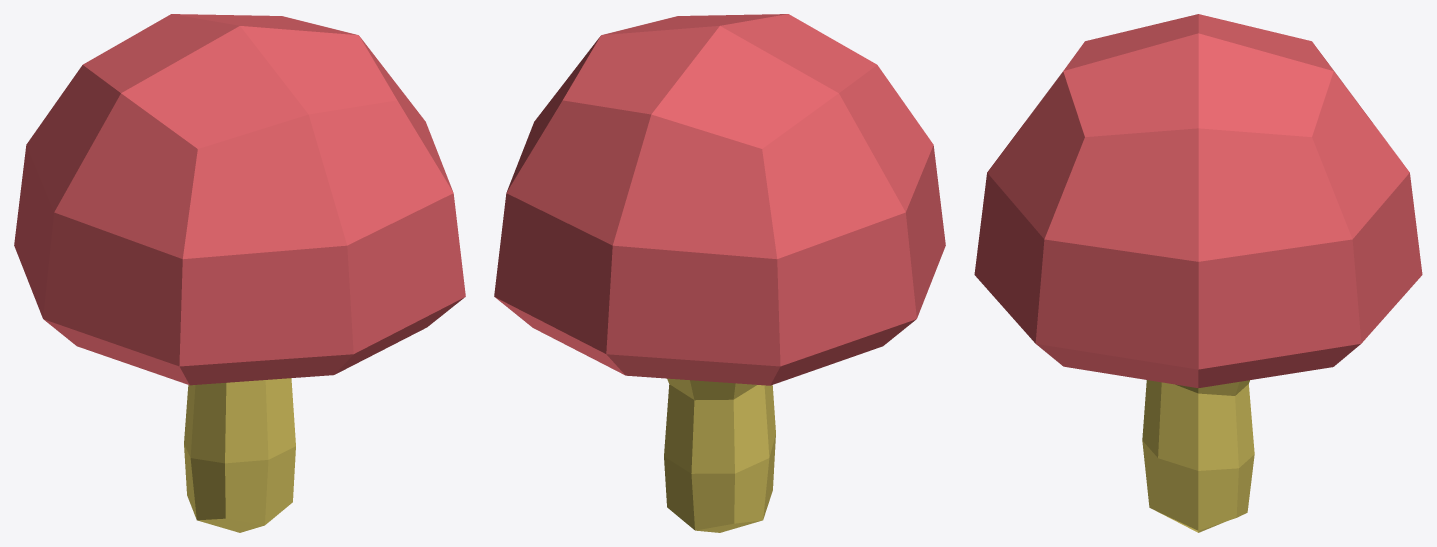
Rendered from Jumper.fbx.
3 renders of one model, left to right at view 1: azimuth 30°, elevation 25°; view 2: azimuth 150°, elevation 25°; view 3: azimuth 270°, elevation 25°, orthographic.
Parts seen in each view (by area): view 1: Cube.006; view 2: Cube.006; view 3: Cube.006.
Boxes of the visible parts, bbox=[...] form: Cube.006: bbox=[14, 14, 465, 532]; Cube.006: bbox=[494, 14, 945, 532]; Cube.006: bbox=[974, 14, 1422, 532].
Size of the model in its own units: 443 by 545 by 443.
